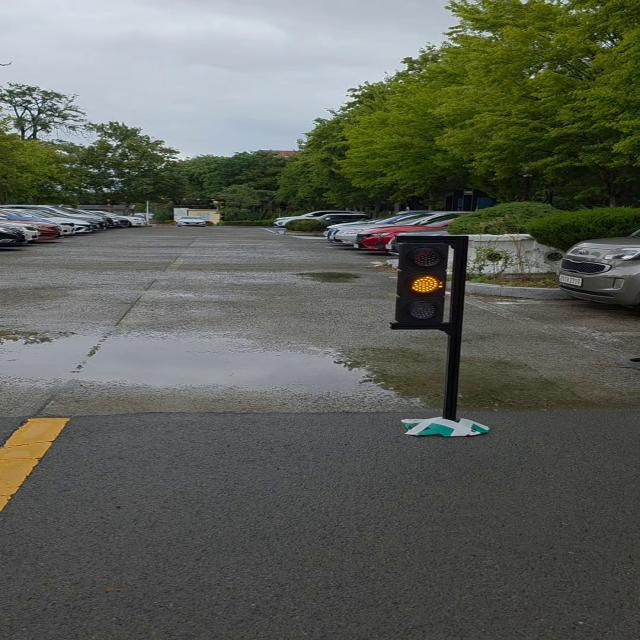yellow: (398, 239, 449, 327)
